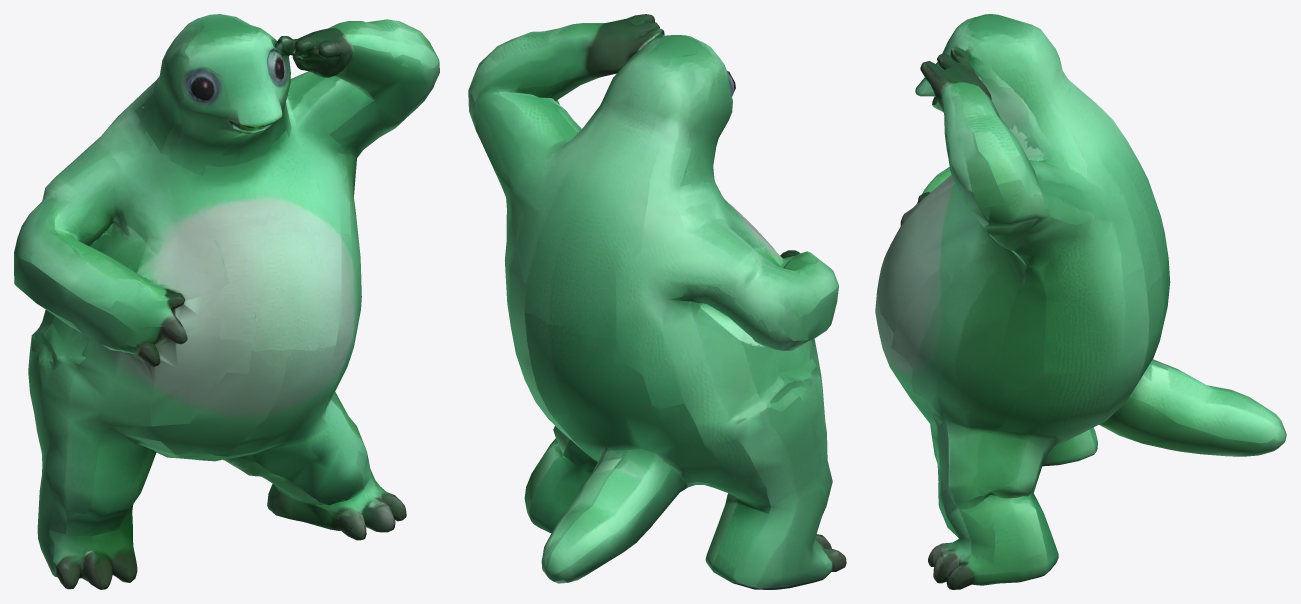
The model's file is naiwa_mint_g3_runtime.glb.
3 renders of one model, left to right at view 1: azimuth 30°, elevation 25°; view 2: azimuth 150°, elevation 25°; view 3: azimuth 270°, elevation 25°, orthographic. The views are drawn at different scales.
Visible parts, largest first — view 1: geometry_0; view 2: geometry_0; view 3: geometry_0.
Part boxes in pixels (bbox=[...]): geometry_0: bbox=[14, 14, 439, 589]; geometry_0: bbox=[468, 14, 846, 589]; geometry_0: bbox=[875, 14, 1286, 589].
Size of the model in its own units: 1.48 by 1.9 by 1.42.
1 material, 1 textured.
